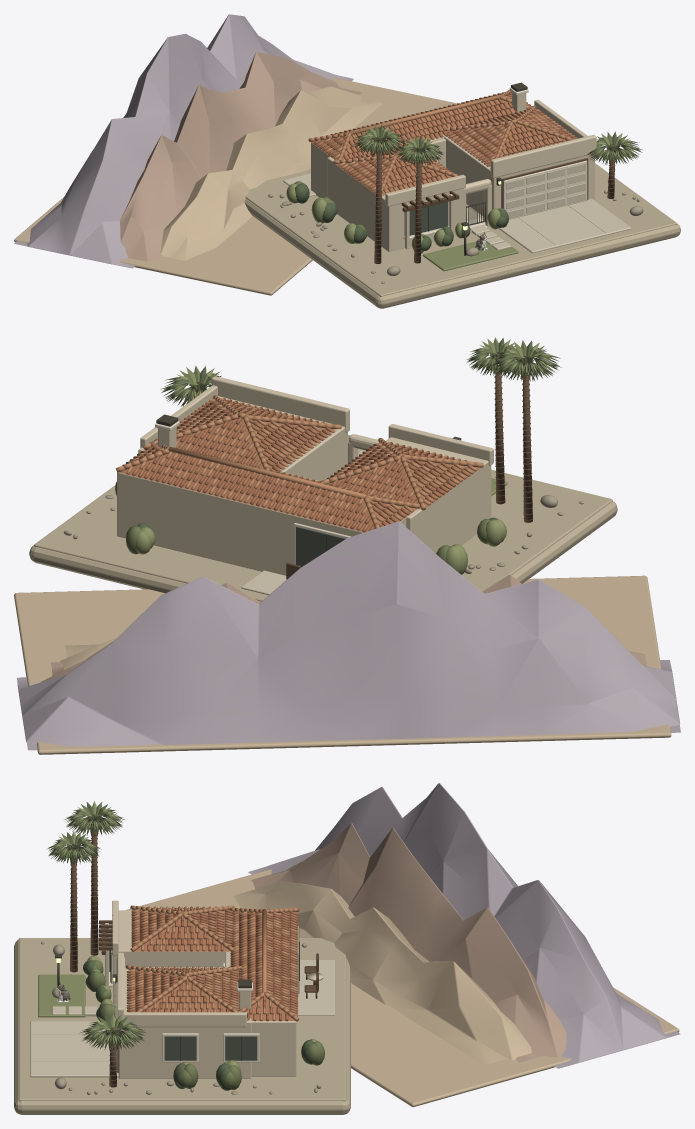
Rendered from greco-court.glb.
The picture shows the model from 3 angles, top to bottom: view 1: azimuth 30°, elevation 25°; view 2: azimuth 150°, elevation 25°; view 3: azimuth 270°, elevation 25°; orthographic projection. The views are drawn at different scales.
Visible parts, largest first — view 1: Scenery, Ground, House, Roof, Landscape; view 2: Scenery, House, Roof, Ground, Landscape; view 3: Scenery, Ground, Roof, House, Landscape, Props.
Boxes of the visible parts, <box> form: Scenery: <box>14,14,456,295</box>; Ground: <box>244,163,680,308</box>; House: <box>311,99,596,251</box>; Roof: <box>308,82,577,195</box>; Landscape: <box>268,124,643,283</box>; Scenery: <box>14,521,680,754</box>; House: <box>117,376,493,575</box>; Roof: <box>116,394,483,532</box>; Ground: <box>29,434,617,602</box>; Landscape: <box>63,337,584,574</box>; Scenery: <box>112,783,680,1107</box>; Ground: <box>14,938,350,1114</box>; Roof: <box>125,905,299,1021</box>; House: <box>99,900,299,1078</box>; Landscape: <box>41,801,324,1094</box>; Props: <box>55,953,323,998</box>.
Size of the model in its own units: 35.22 by 9.66 by 35.63.
